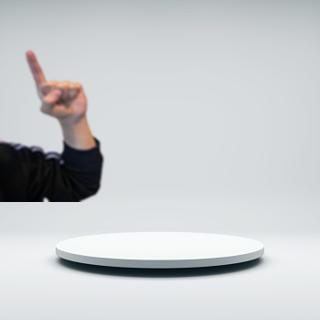IRRITATED: (23, 47, 89, 123)
